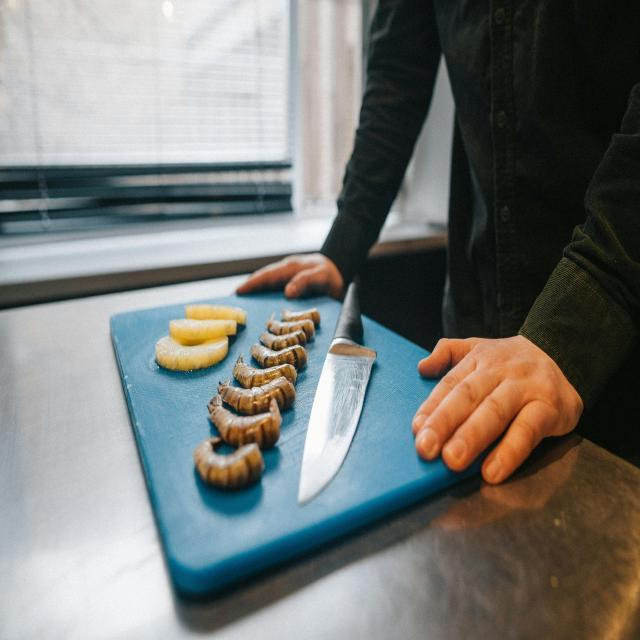knife: (298, 279, 375, 507)
